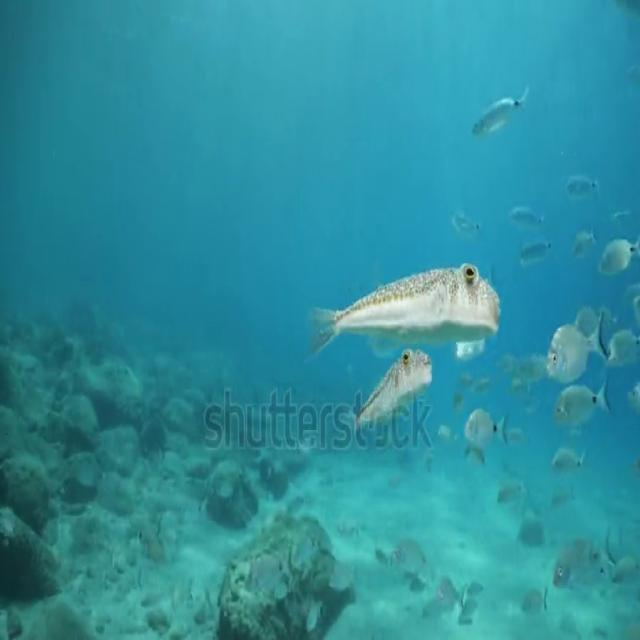Balon Baligi: (307, 259, 501, 358), (351, 342, 432, 432)
